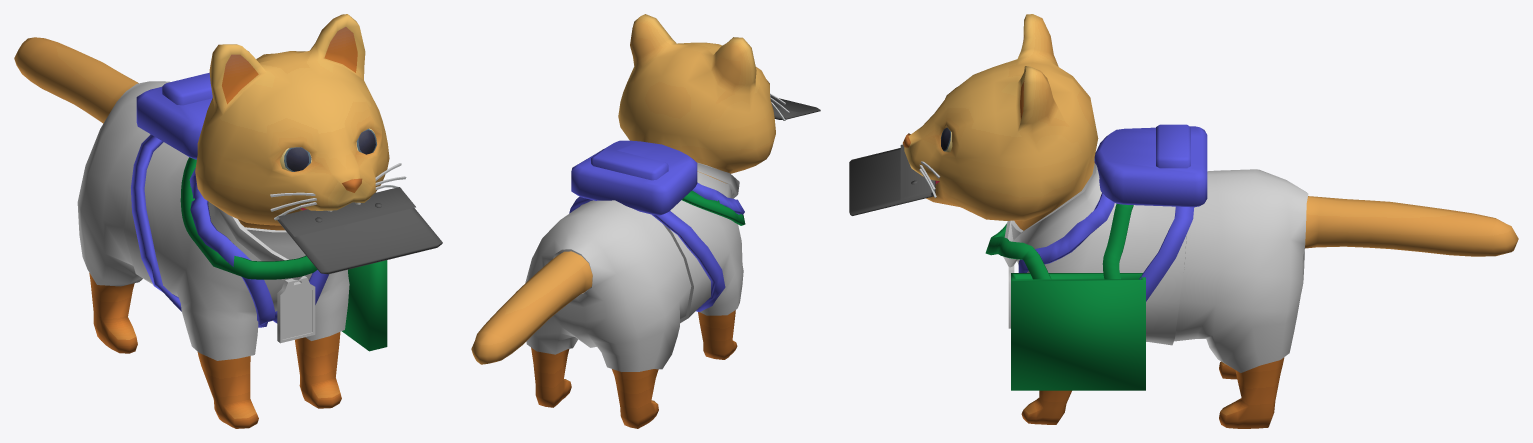
File: Student Cat.obj
The picture shows the model from 3 angles, left to right: view 1: azimuth 30°, elevation 25°; view 2: azimuth 150°, elevation 25°; view 3: azimuth 270°, elevation 25°; orthographic projection. The views are drawn at different scales.
Visible parts, largest first — view 1: Cat001, Clothes, Backpack, Plastic_Envelope, ToteBag; view 2: Cat001, Clothes, Backpack, ToteBag, Plastic_Envelope; view 3: Cat001, Clothes, ToteBag, Backpack, Plastic_Envelope.
Part boxes in pixels (bbox=[...]): Cat001: bbox=[14, 14, 406, 428]; Clothes: bbox=[77, 81, 349, 360]; Backpack: bbox=[131, 72, 328, 327]; Plastic_Envelope: bbox=[277, 187, 442, 274]; ToteBag: bbox=[180, 157, 387, 351]; Cat001: bbox=[471, 14, 789, 428]; Clothes: bbox=[525, 162, 743, 371]; Backpack: bbox=[569, 140, 744, 312]; ToteBag: bbox=[682, 190, 745, 225]; Plastic_Envelope: bbox=[770, 96, 820, 119]; Cat001: bbox=[902, 14, 1518, 428]; Clothes: bbox=[1003, 158, 1308, 372]; ToteBag: bbox=[985, 204, 1145, 390]; Backpack: bbox=[1018, 124, 1207, 301]; Plastic_Envelope: bbox=[849, 144, 935, 215].
Size of the model in its own units: 70.98 by 146 by 247.
